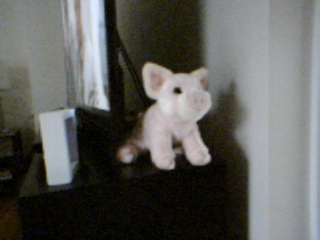piggy: (114, 60, 215, 172)
